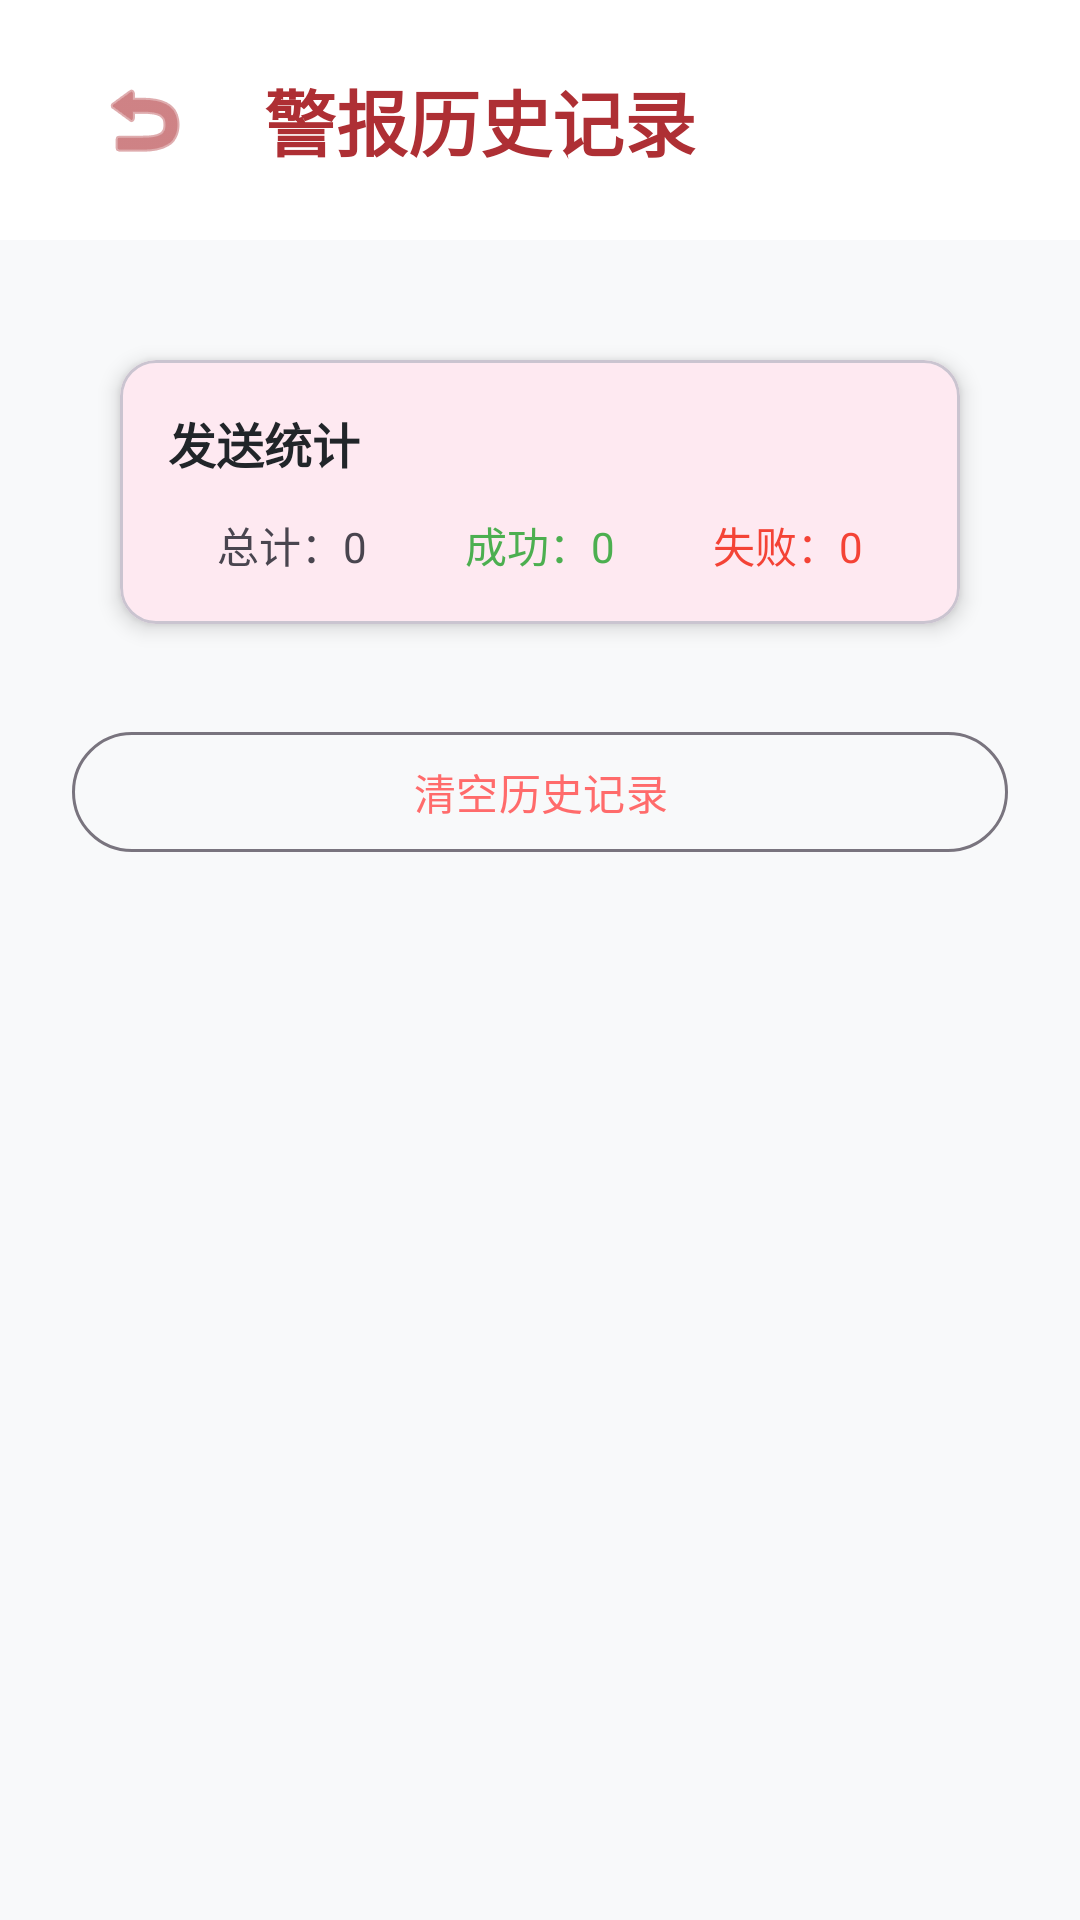

Screen size 1080x1920. Icon name, then its box in pixels as (x1, y1, x2, y2):
返回: (111, 89, 180, 152)
